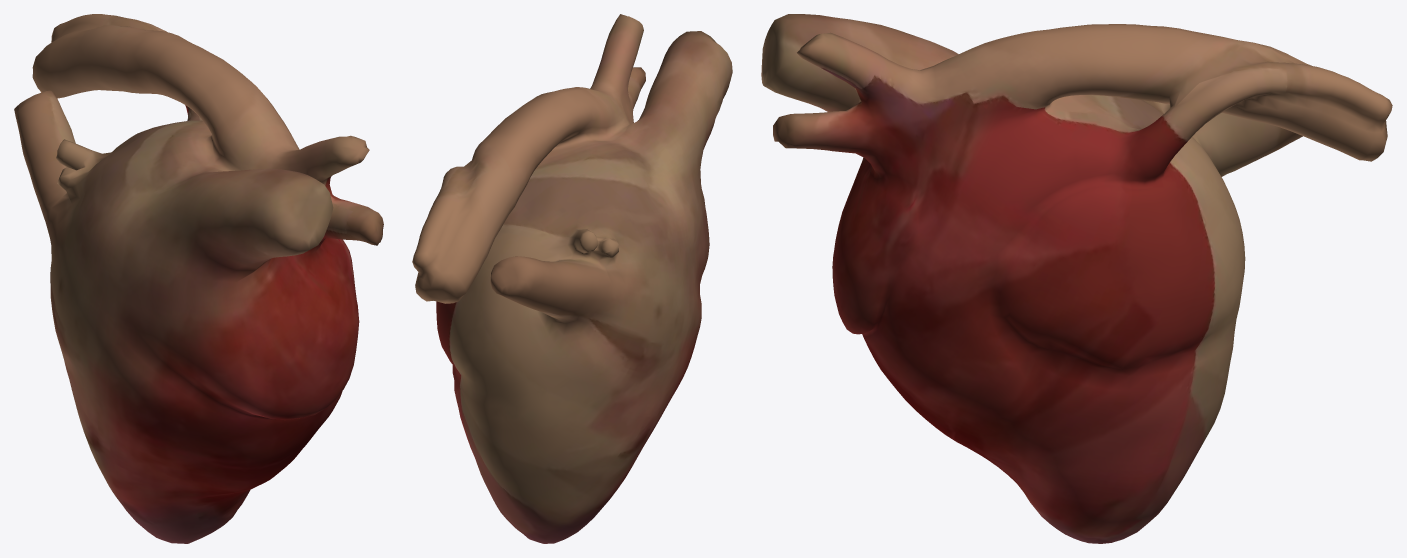
The model's file is Heart.glb.
3 renders of one model, left to right at view 1: azimuth 30°, elevation 25°; view 2: azimuth 150°, elevation 25°; view 3: azimuth 270°, elevation 25°, orthographic. The views are drawn at different scales.
Visible parts, largest first — view 1: HeartLow2:ZBrushPolyMesh3D; view 2: HeartLow2:ZBrushPolyMesh3D; view 3: HeartLow2:ZBrushPolyMesh3D.
Boxes of the visible parts, x1,y1,x2,y2 form: HeartLow2:ZBrushPolyMesh3D: (14,14,383,543); HeartLow2:ZBrushPolyMesh3D: (412,14,732,543); HeartLow2:ZBrushPolyMesh3D: (761,14,1392,543).
Bounding box in the file's own units: 26.61 × 50.99 × 55.5.
Materials: 1 (1 with a texture image).
